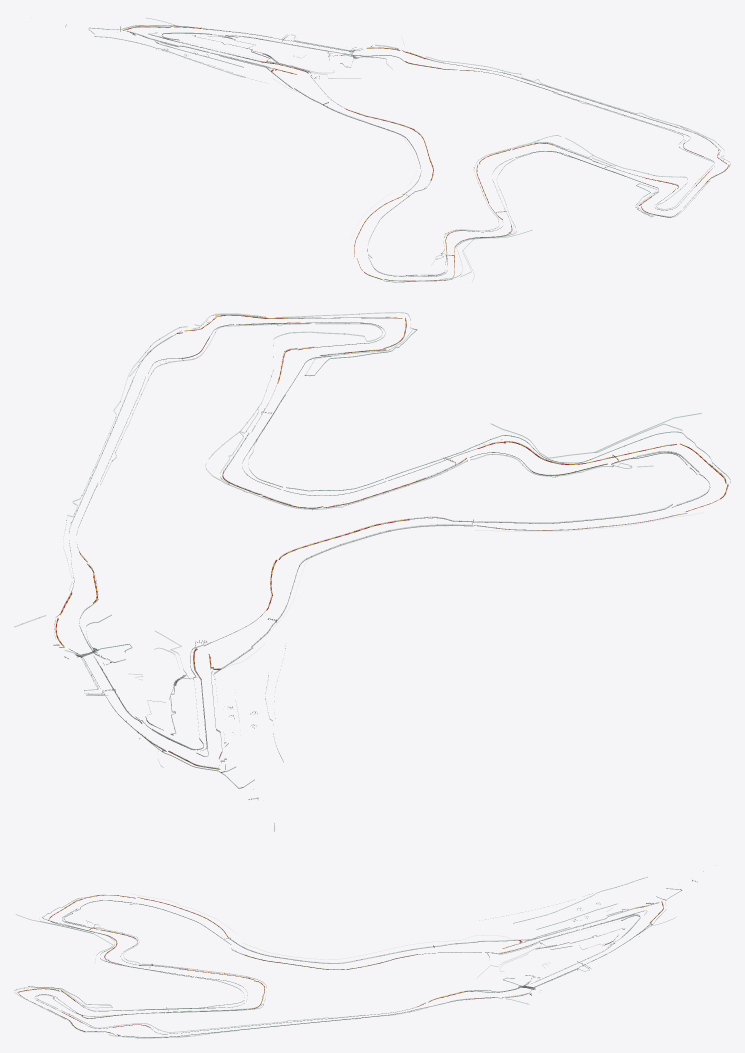
The model's file is boundaries.glb.
The picture shows the model from 3 angles, top to bottom: view 1: azimuth 30°, elevation 25°; view 2: azimuth 150°, elevation 25°; view 3: azimuth 270°, elevation 25°; orthographic projection. The views are drawn at different scales.
Parts seen in each view (by area): view 1: spa_2022.059, spa_2022.031, spa_2022.024, spa_2022.027; view 2: spa_2022.059, spa_2022.024, spa_2022.031, spa_2022.027, spa_2022.062; view 3: spa_2022.059, spa_2022.031, spa_2022.024, spa_2022.027, spa_2022.062.
Part boxes in pixels (box(x1,y1,x2,y2)): spa_2022.059: box(89, 18, 730, 282); spa_2022.031: box(123, 26, 671, 281); spa_2022.024: box(95, 30, 723, 279); spa_2022.027: box(123, 26, 728, 280); spa_2022.059: box(14, 312, 730, 788); spa_2022.024: box(69, 317, 727, 761); spa_2022.031: box(53, 320, 725, 769); spa_2022.027: box(55, 315, 728, 769); spa_2022.062: box(22, 314, 728, 831); spa_2022.059: box(14, 877, 681, 1038); spa_2022.031: box(27, 897, 663, 1008); spa_2022.024: box(20, 887, 627, 1037); spa_2022.027: box(17, 895, 663, 1034); spa_2022.062: box(16, 865, 716, 1038).
Size of the model in its own units: 1419 by 109 by 2357.
Materials: 5 (5 with a texture image).
